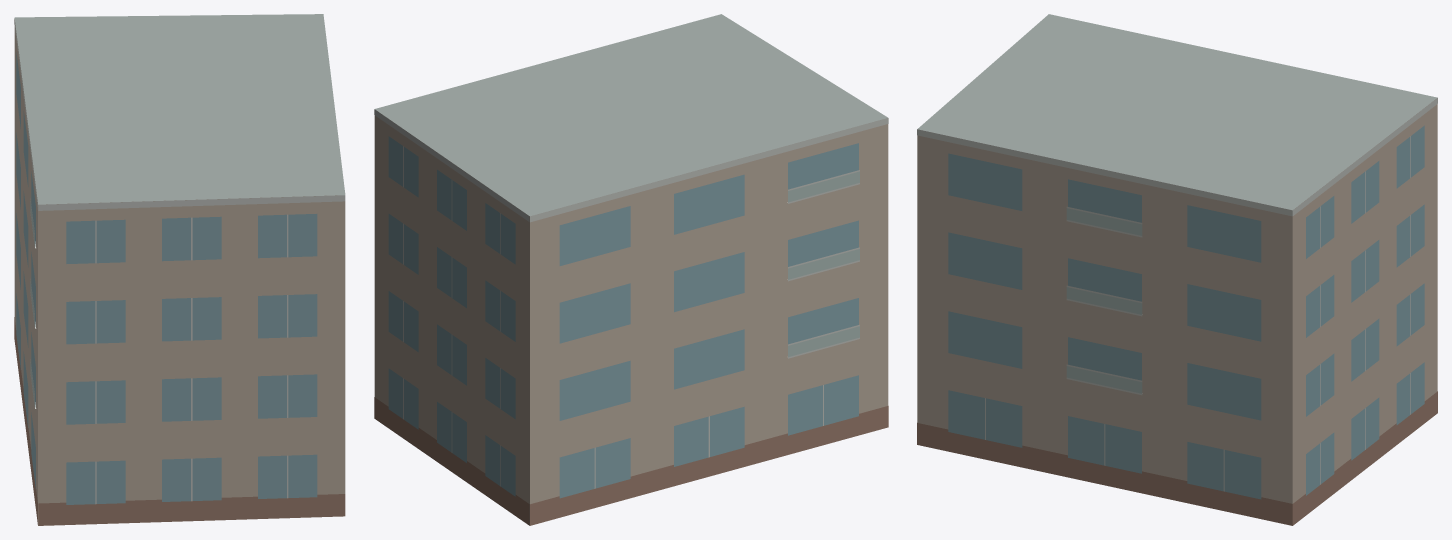
The model's file is survey-upis-32948808.glb.
3 renders of one model, left to right at view 1: azimuth 30°, elevation 25°; view 2: azimuth 150°, elevation 25°; view 3: azimuth 270°, elevation 25°, orthographic. The views are drawn at different scales.
Parts seen in each view (by area): view 1: survey-upis-32948808.tmp; view 2: survey-upis-32948808.tmp; view 3: survey-upis-32948808.tmp.
Boxes of the visible parts, left/top/right/bottom form: survey-upis-32948808.tmp: left=14, top=14, right=345, bottom=525; survey-upis-32948808.tmp: left=374, top=14, right=888, bottom=525; survey-upis-32948808.tmp: left=917, top=14, right=1437, bottom=525.
Bounding box in the file's own units: 16.68 × 12.5 × 18.7.
